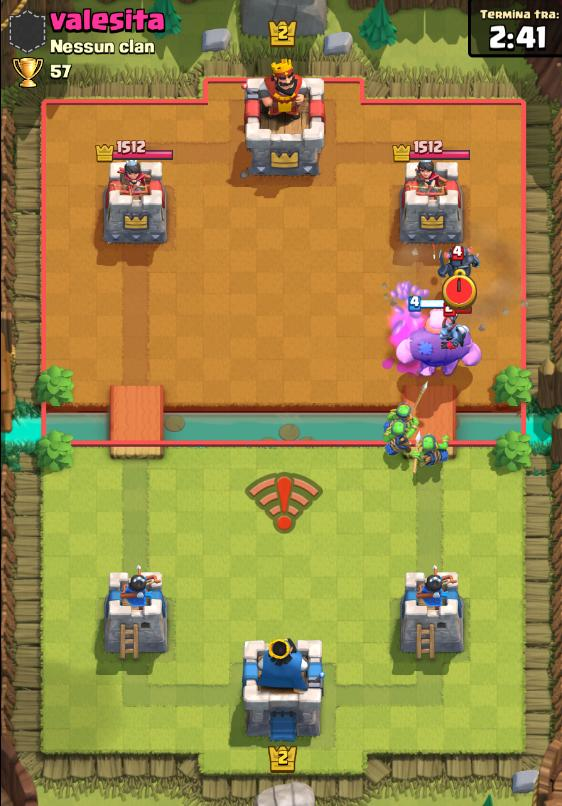EDoctor: (399, 303, 476, 381)
EKingTower: (385, 408, 424, 459), (415, 431, 455, 471)
OBat: (432, 238, 480, 289)
OBeserker: (436, 298, 471, 361)
